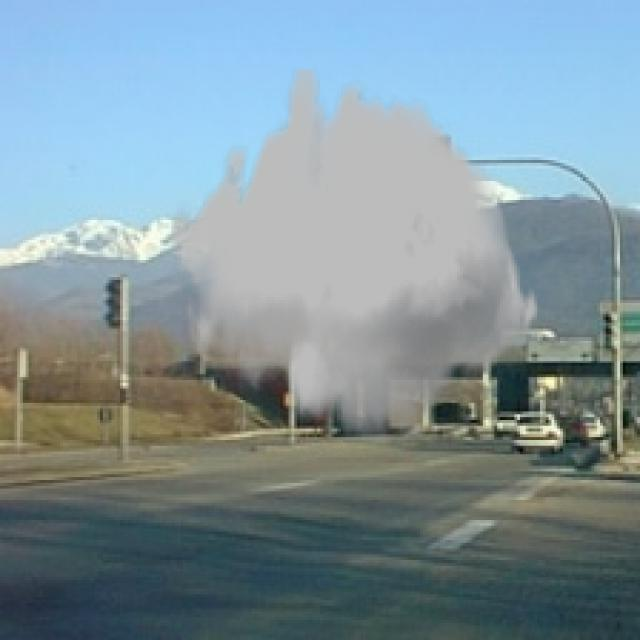smoke: (169, 68, 540, 443)
